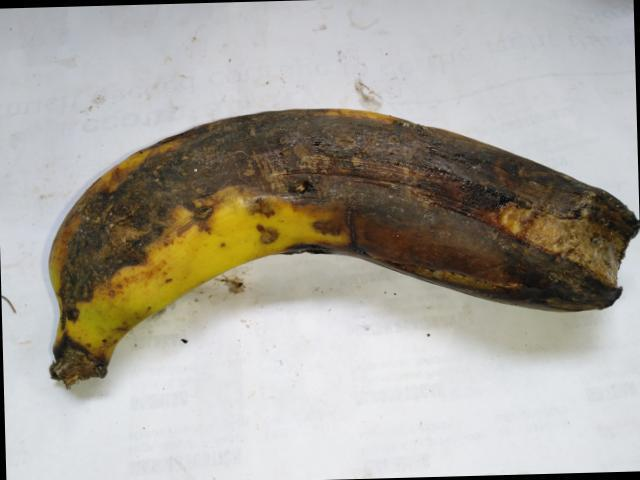rotten: (41, 84, 639, 409)
